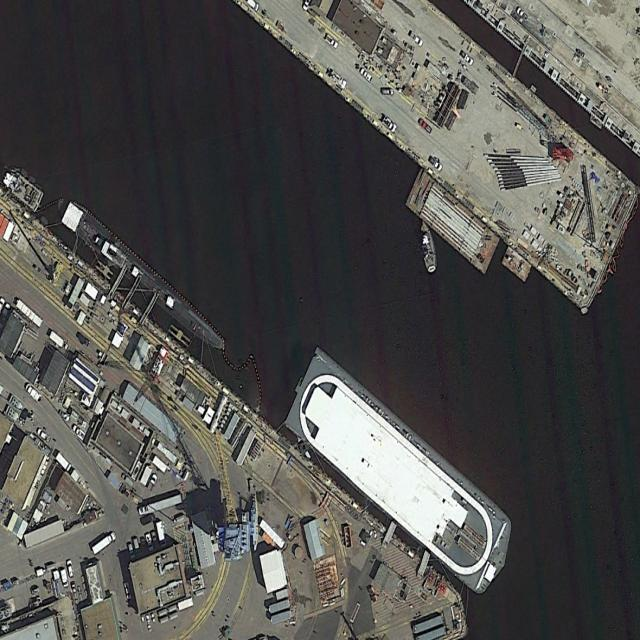Other Ship: (418, 217, 438, 274)
Submarine: (75, 211, 228, 356)
